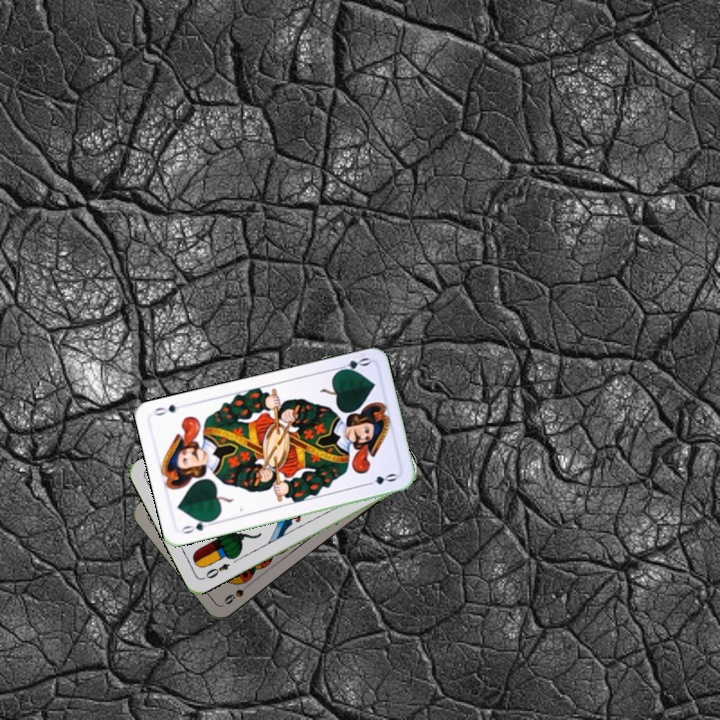EO: (199, 559, 233, 582)
GO: (332, 353, 372, 375), (178, 516, 217, 536)
S9: (220, 578, 255, 607)
